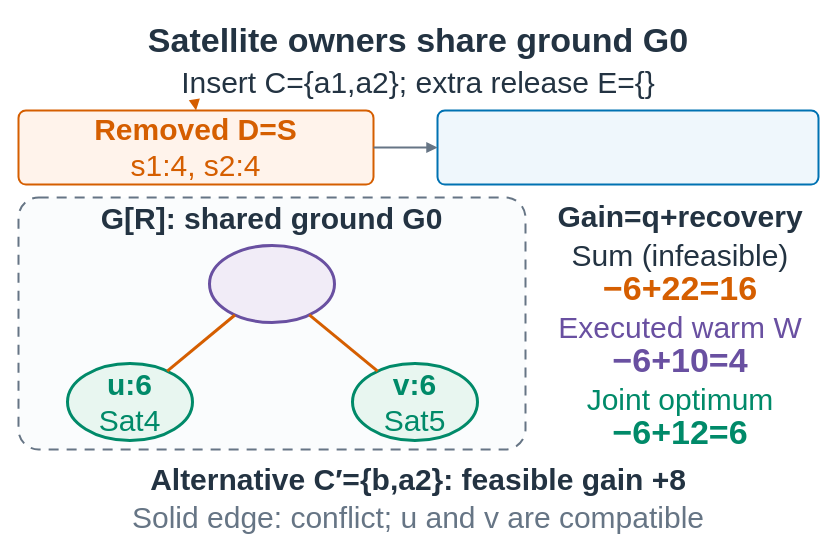
Image size: 836x552. Some labels were removed from this diagram. The centre of each missing label's shape, as x and y in pixels:
"Fixed B=C a1:1, a2:1; q=−6" goes at point (627, 147).
"h:10 Sat3" goes at point (272, 284).
